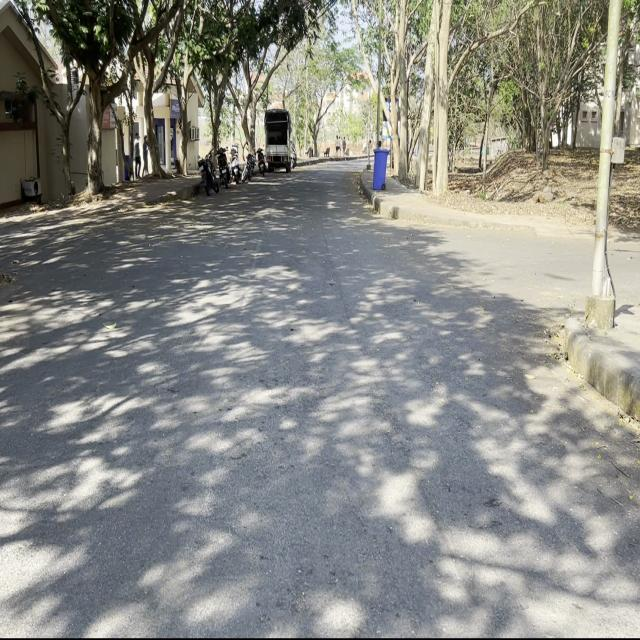Object: (262, 98, 292, 180), (197, 140, 215, 200), (214, 148, 231, 188), (230, 148, 242, 185)
Road: (3, 164, 637, 634)
